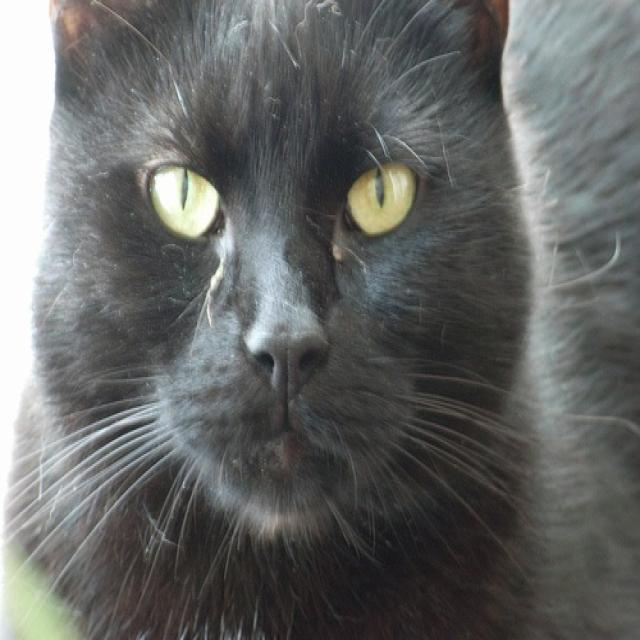cat: (0, 2, 639, 638)
